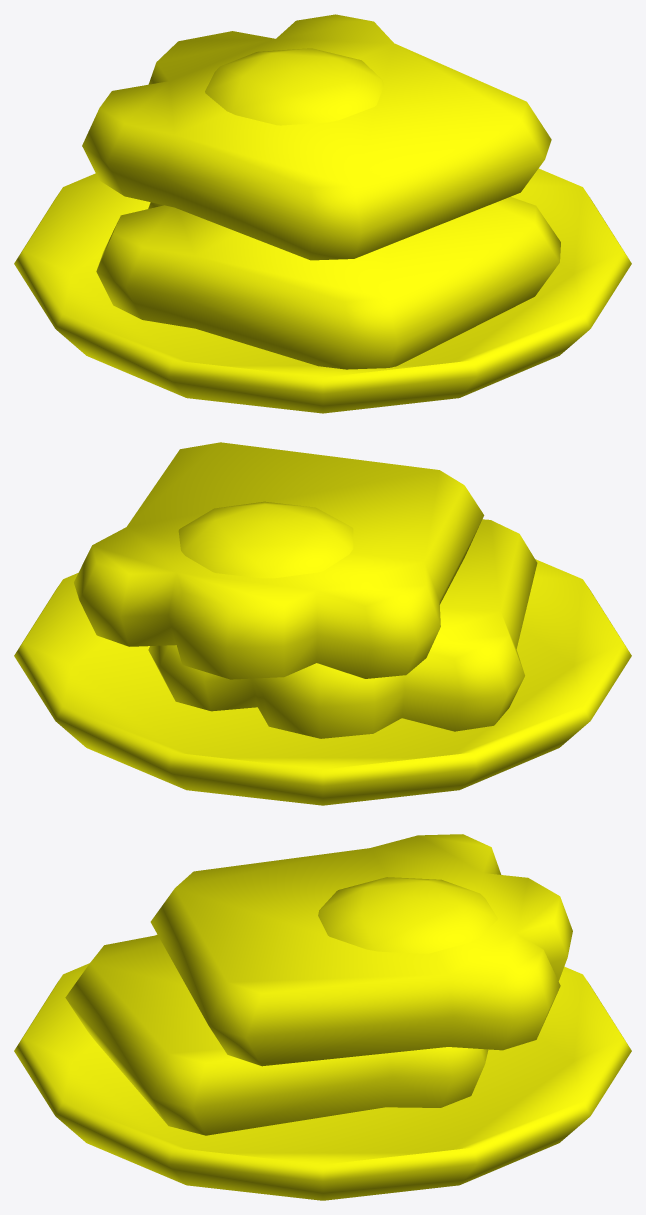
Rendered from 1_Food_Model.gltf.
3 renders of one model, top to bottom at view 1: azimuth 30°, elevation 25°; view 2: azimuth 150°, elevation 25°; view 3: azimuth 270°, elevation 25°, orthographic.
Visible parts, largest first — view 1: 1_Food_Model; view 2: 1_Food_Model; view 3: 1_Food_Model.
Part boxes in pixels (x1,y1,x2,y2): 1_Food_Model: (14, 14, 631, 413); 1_Food_Model: (14, 442, 631, 805); 1_Food_Model: (14, 834, 631, 1200).
Bounding box in the file's own units: 1.29 × 0.4487 × 1.29.
Materials: 2 (2 with a texture image).
